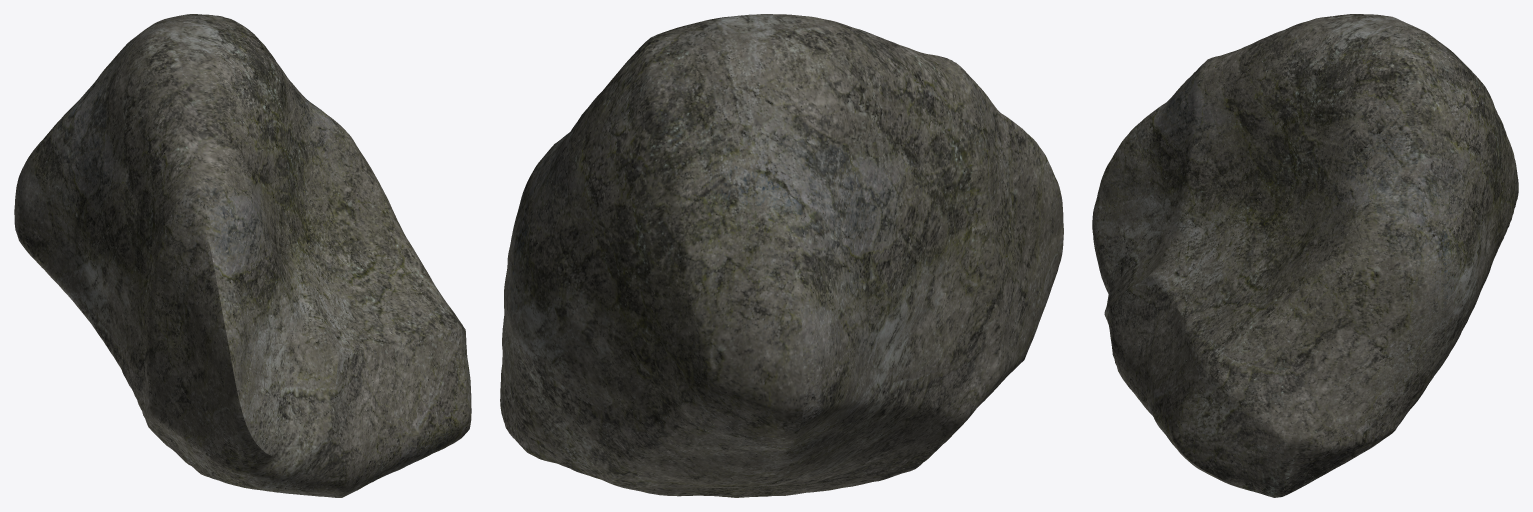
Rendered from round_rock.fbx.
3 renders of one model, left to right at view 1: azimuth 30°, elevation 25°; view 2: azimuth 150°, elevation 25°; view 3: azimuth 270°, elevation 25°, orthographic. The views are drawn at different scales.
Visible parts, largest first — view 1: rock.002; view 2: rock.002; view 3: rock.002.
Part boxes in pixels (x1=…): rock.002: x1=14, y1=14, x2=471, y2=497; rock.002: x1=500, y1=14, x2=1063, y2=497; rock.002: x1=1092, y1=14, x2=1518, y2=497.
Size of the model in its own units: 48.47 by 57.54 by 56.06.
